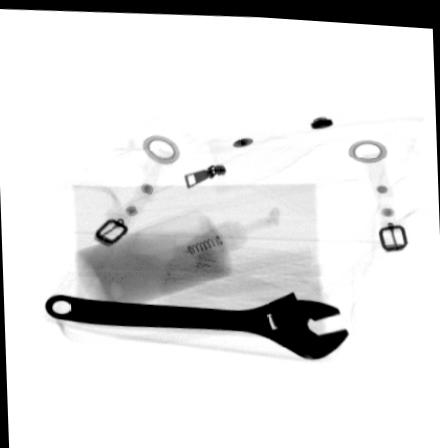Wrench: (42, 284, 350, 356)
